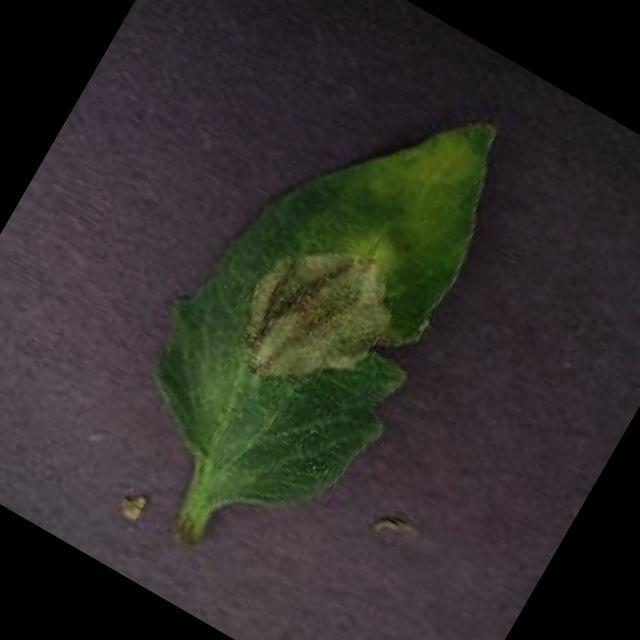Tomato late blight leaf: (99, 21, 550, 547)
